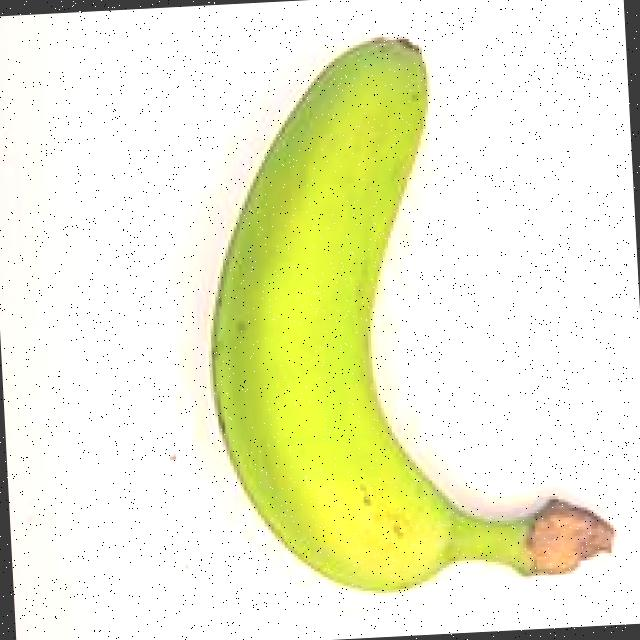Unripe: (171, 0, 634, 640)
